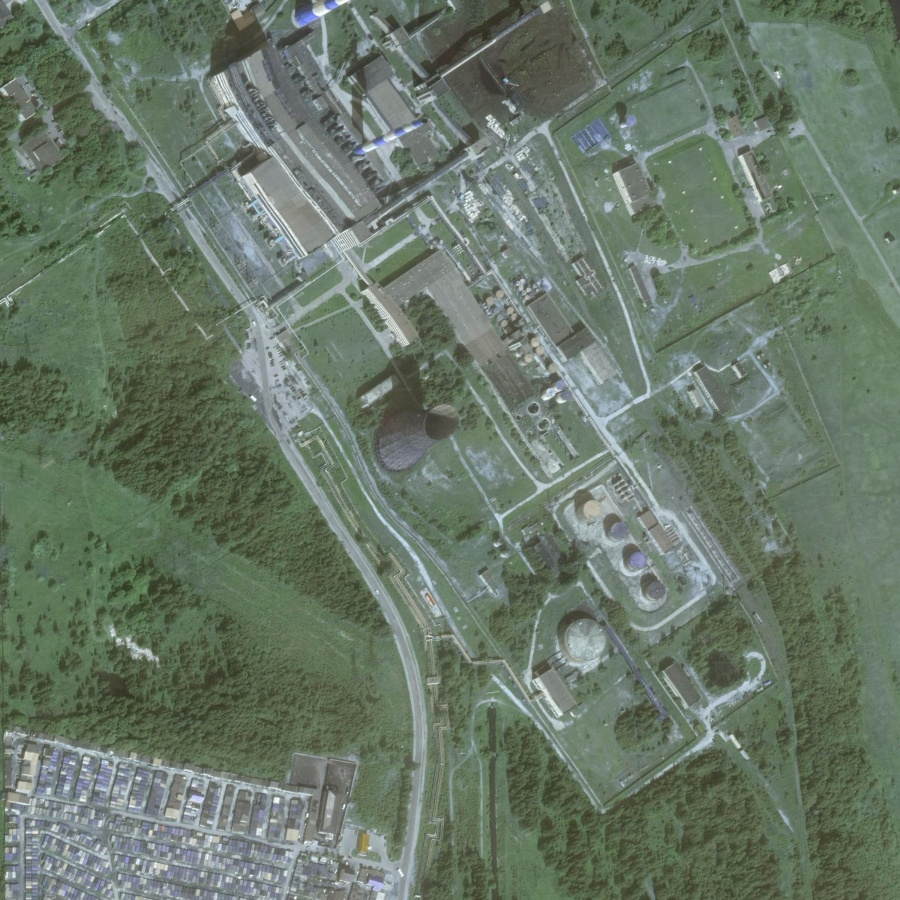PowerPlant: (350, 353, 479, 483), (564, 484, 667, 603)
